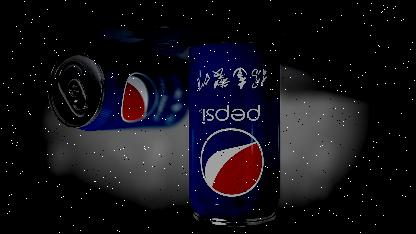Can: (188, 35, 279, 225), (47, 49, 187, 129)
